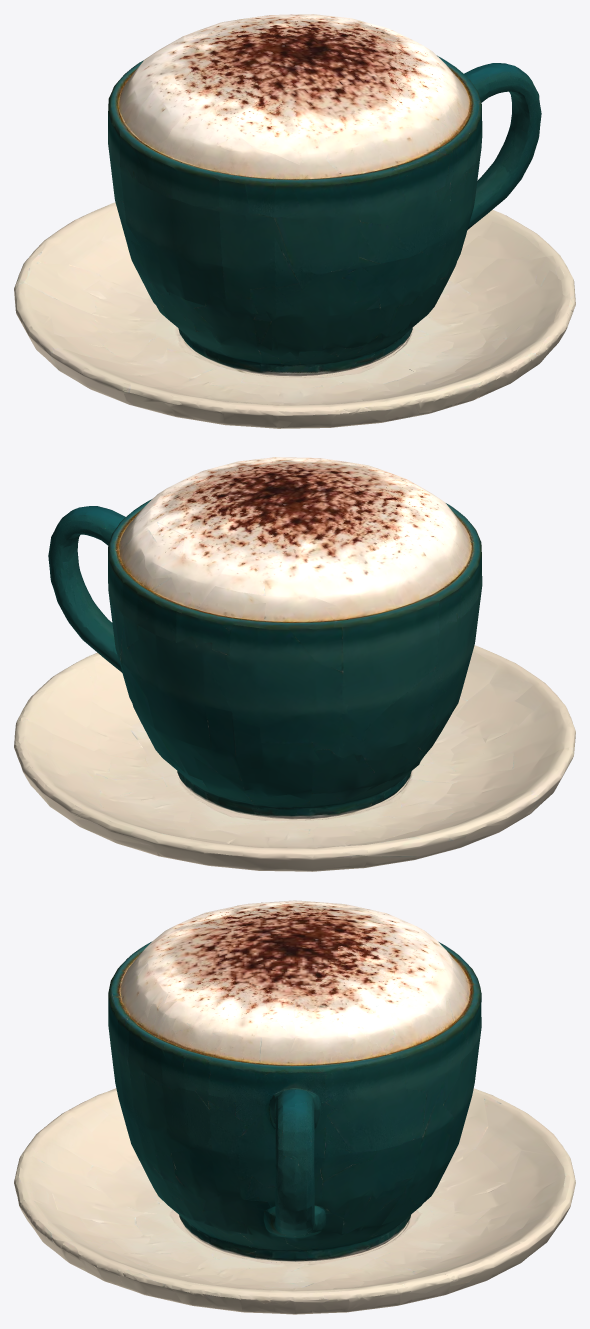
Rendered from cappuccino.glb.
The picture shows the model from 3 angles, top to bottom: view 1: azimuth 30°, elevation 25°; view 2: azimuth 150°, elevation 25°; view 3: azimuth 270°, elevation 25°; orthographic projection.
Visible parts, largest first — view 1: Mesh_0; view 2: Mesh_0; view 3: Mesh_0.
Boxes of the visible parts, x1,y1,x2,y2 form: Mesh_0: (14,14,575,428); Mesh_0: (14,457,575,871); Mesh_0: (14,900,575,1314).
Bounding box in the file's own units: 1.9 × 1.13 × 1.9.
1 material, 1 textured.
